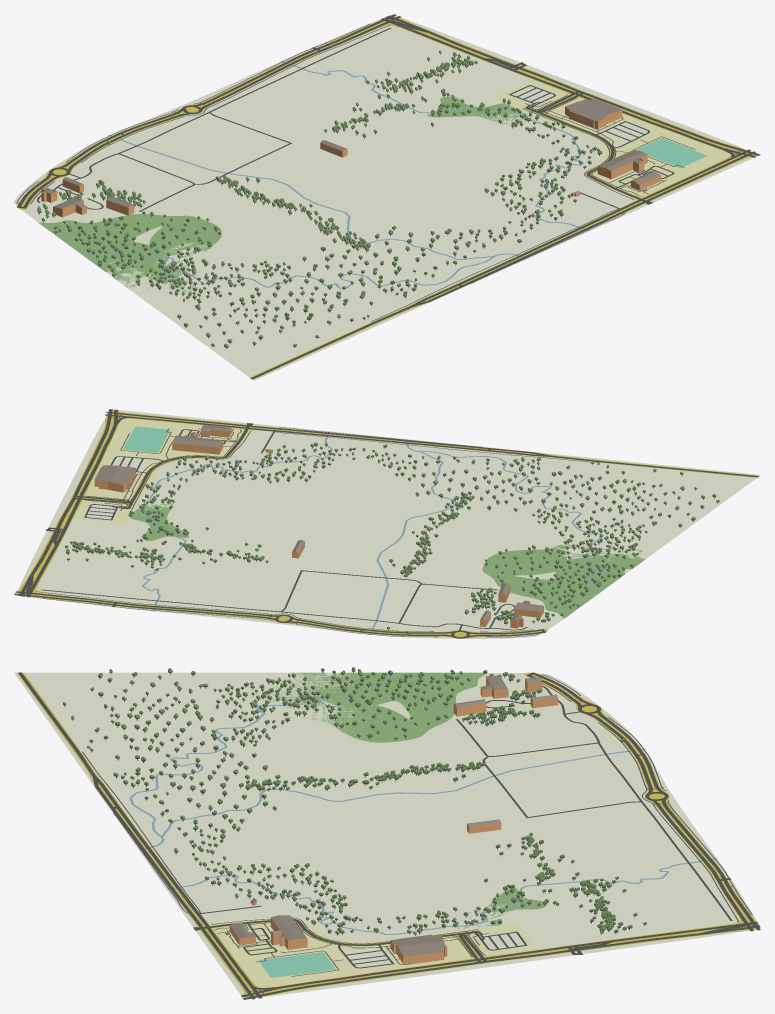
Rendered from TempARVRGISMap 1.fbx.
3 renders of one model, top to bottom at view 1: azimuth 30°, elevation 25°; view 2: azimuth 150°, elevation 25°; view 3: azimuth 270°, elevation 25°, orthographic. The views are drawn at different scales.
Visible parts, largest first — view 1: Terrain, Greenery, Roads, Development.002, map_19.osm_roads_tertiary, map_19.osm_buildings, map_19.osm_paths_footway, map_19.osm_roads_service, map_19.osm_roads_secondary, Park, Plane.003, Plane.005 (+2 smaller); view 2: Terrain, Greenery, Roads, map_19.osm_roads_tertiary, Development.002, map_19.osm_buildings, map_19.osm_paths_footway, map_19.osm_roads_service, map_19.osm_roads_secondary, Park, Plane.003, Plane.005 (+2 smaller); view 3: Terrain, Greenery, Roads, Development.002, map_19.osm_roads_tertiary, map_19.osm_buildings, map_19.osm_roads_secondary, map_19.osm_roads_service, map_19.osm_paths_footway, Park, Plane.005, Plane.003 (+2 smaller).
Part boxes in pixels (x1,y1,x2,y2): Terrain: [14, 17, 751, 380]; Greenery: [38, 96, 535, 298]; Roads: [16, 15, 756, 379]; Development.002: [494, 79, 730, 200]; map_19.osm_roads_tertiary: [17, 14, 755, 379]; map_19.osm_buildings: [41, 98, 661, 217]; map_19.osm_paths_footway: [16, 23, 741, 321]; map_19.osm_roads_service: [36, 27, 674, 211]; map_19.osm_roads_secondary: [381, 15, 760, 157]; Park: [636, 138, 706, 167]; Plane.003: [80, 250, 528, 289]; Plane.005: [280, 61, 589, 230]; Terrain: [19, 410, 760, 638]; Greenery: [130, 502, 645, 618]; Roads: [16, 410, 758, 638]; map_19.osm_roads_tertiary: [14, 411, 758, 638]; Development.002: [73, 418, 251, 523]; map_19.osm_buildings: [94, 425, 543, 628]; map_19.osm_paths_footway: [36, 414, 597, 637]; map_19.osm_roads_service: [41, 429, 527, 631]; map_19.osm_roads_secondary: [18, 409, 118, 597]; Park: [123, 426, 170, 452]; Plane.003: [406, 439, 605, 590]; Plane.005: [140, 431, 332, 611]; Terrain: [14, 672, 756, 995]; Greenery: [247, 672, 546, 932]; Roads: [17, 672, 760, 997]; Development.002: [209, 918, 537, 987]; map_19.osm_roads_tertiary: [18, 672, 760, 999]; map_19.osm_buildings: [229, 676, 557, 964]; map_19.osm_roads_secondary: [241, 921, 760, 999]; map_19.osm_roads_service: [200, 686, 732, 968]; map_19.osm_paths_footway: [82, 674, 752, 993]; Park: [258, 952, 335, 977]; Plane.005: [167, 858, 716, 934]; Plane.003: [129, 672, 396, 850].
Bounding box in the file's own units: 25942 × 426 × 24960.
